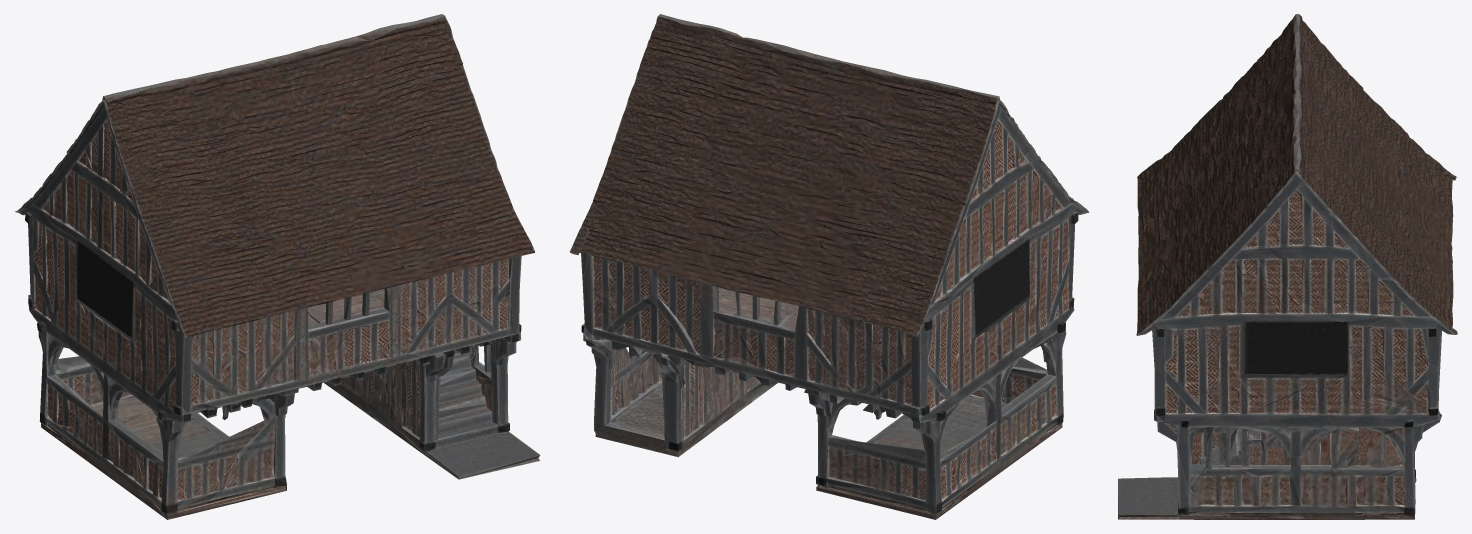
The model's file is market_hall_titchfield_a.meshy.reduced.glb.
3 views of the same model, side by side, from view 1: azimuth 30°, elevation 25°; view 2: azimuth 150°, elevation 25°; view 3: azimuth 270°, elevation 25° (orthographic). The views are drawn at different scales.
Size of the model in its own units: 1.85 by 1.9 by 1.66.
1 material, 1 textured.
